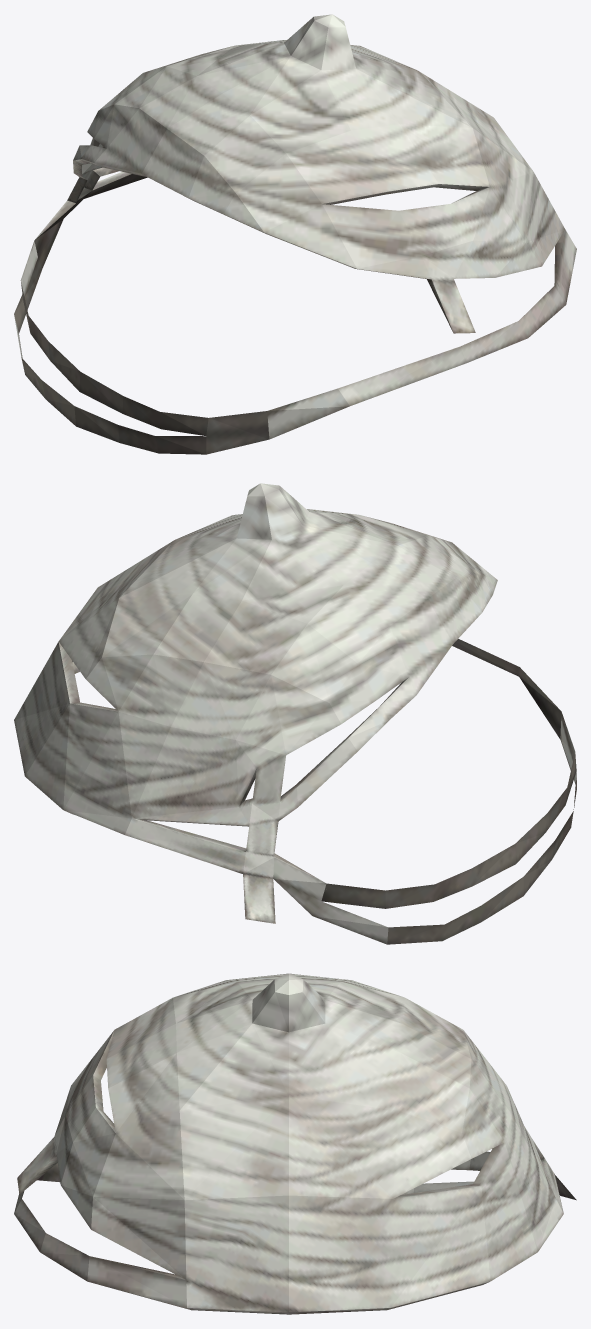
File: Whale_mummyHead.obj
The picture shows the model from 3 angles, top to bottom: view 1: azimuth 30°, elevation 25°; view 2: azimuth 150°, elevation 25°; view 3: azimuth 270°, elevation 25°; orthographic projection. The views are drawn at different scales.
Parts seen in each view (by area): view 1: Whale_mummyHead_tri; view 2: Whale_mummyHead_tri; view 3: Whale_mummyHead_tri.
Boxes of the visible parts, <box> form: Whale_mummyHead_tri: <box>14,14,576,454</box>; Whale_mummyHead_tri: <box>14,483,576,944</box>; Whale_mummyHead_tri: <box>14,973,576,1314</box>.
Bounding box in the file's own units: 1.63 × 1.15 × 1.73.
1 material, 1 textured.
